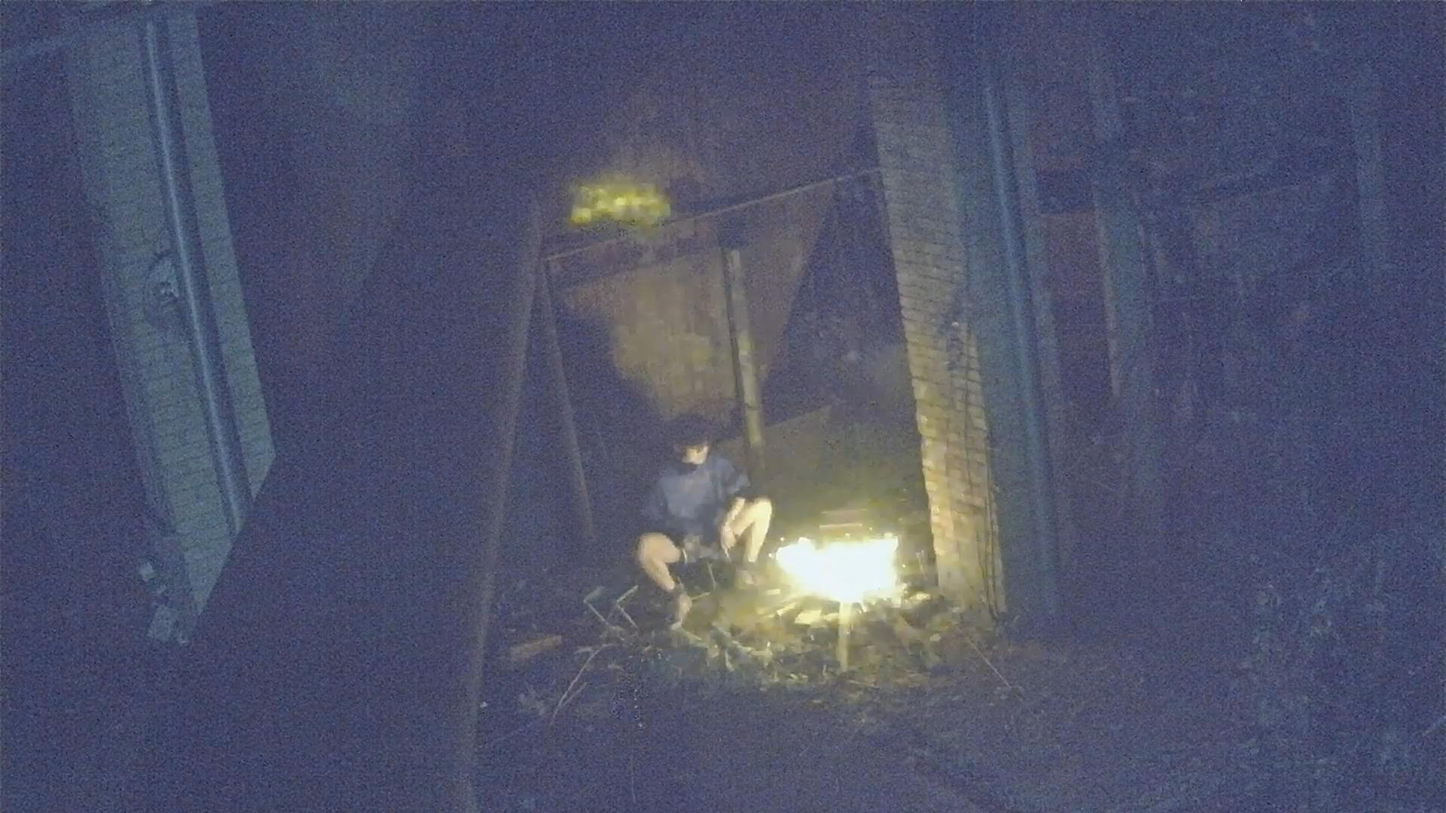fire: (776, 537, 898, 605)
